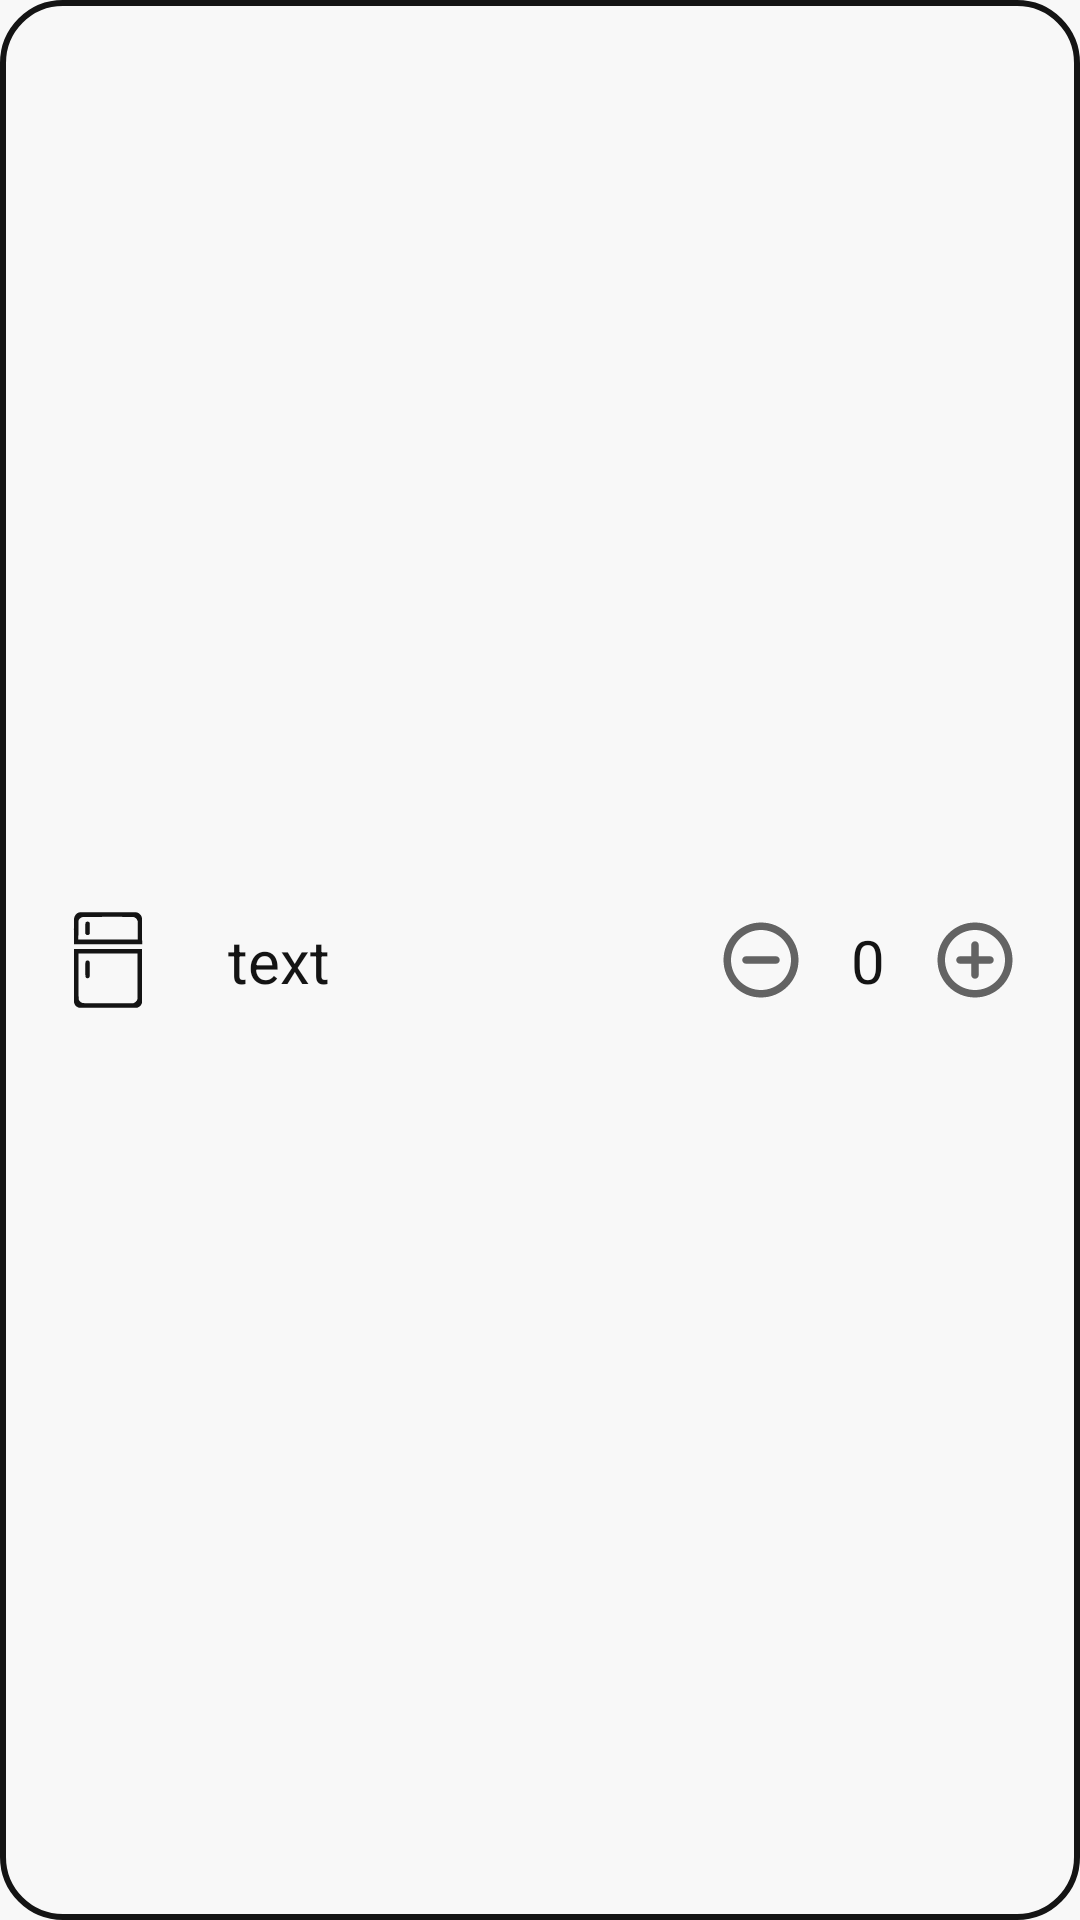

Icon bounding boxes for this 1080x1920 phone screenshot, format [x1=x1, y1=y1, x2=x2, y2=y2]:
add product: [x1=937, y1=922, x2=1013, y2=998]
fridge: [x1=73, y1=912, x2=143, y2=1008]
remove product: [x1=723, y1=922, x2=799, y2=998]
